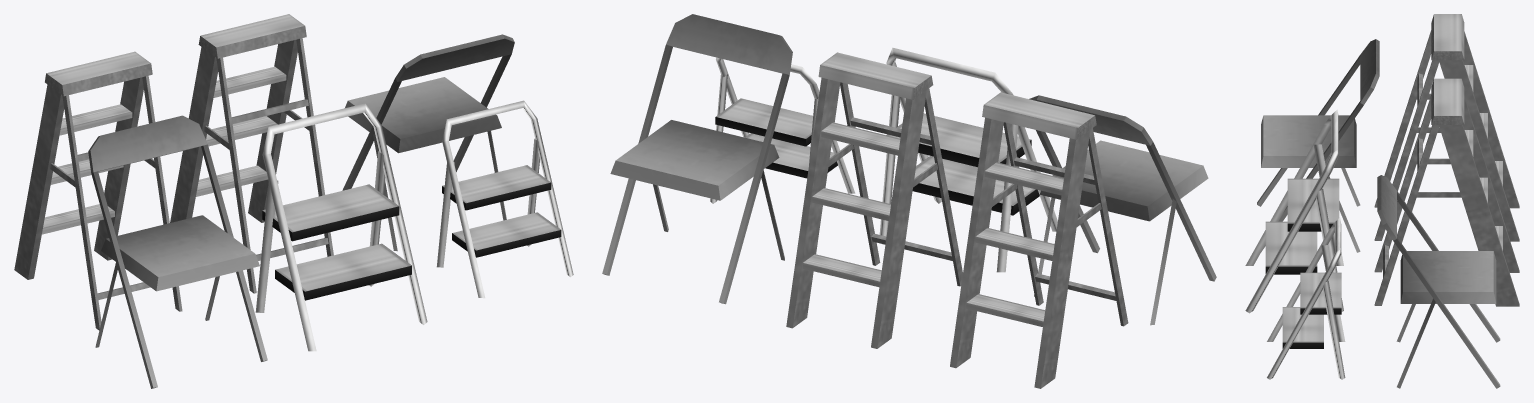
The model's file is Folding_Chairs_Bundles.fbx.
The picture shows the model from 3 angles, left to right: view 1: azimuth 30°, elevation 25°; view 2: azimuth 150°, elevation 25°; view 3: azimuth 270°, elevation 25°; orthographic projection. The views are drawn at different scales.
Visible parts, largest first — view 1: Folding_Chairs_Bundles; view 2: Folding_Chairs_Bundles; view 3: Folding_Chairs_Bundles.
Boxes of the visible parts, x1,y1,x2,y2 form: Folding_Chairs_Bundles: [14, 14, 573, 388]; Folding_Chairs_Bundles: [602, 14, 1216, 388]; Folding_Chairs_Bundles: [1245, 14, 1519, 388].
Bounding box in the file's own units: 270 × 134 × 170.
